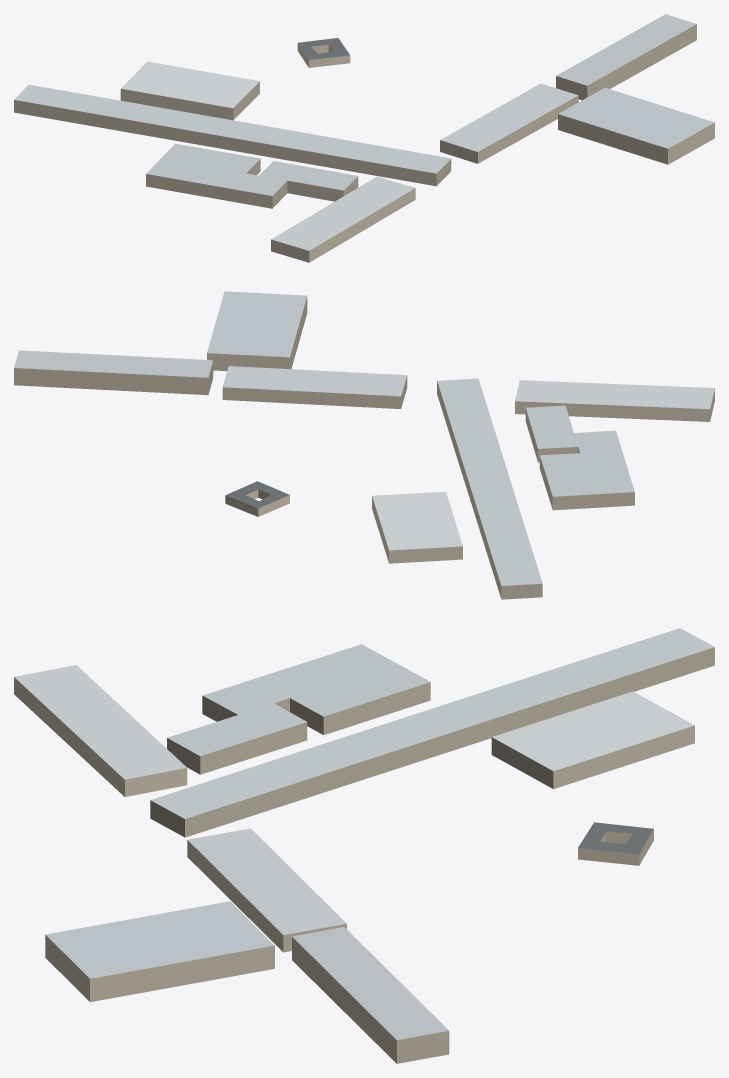
3 views of the same model, one above another, from view 1: azimuth 30°, elevation 25°; view 2: azimuth 150°, elevation 25°; view 3: azimuth 270°, elevation 25° (orthographic). The views are drawn at different scales.
Parts seen in each view (by area): view 1: tuile; view 2: tuile; view 3: tuile.
Part boxes in pixels (x1=…): tuile: x1=14, y1=14, x2=714, y2=262; tuile: x1=14, y1=291, x2=714, y2=599; tuile: x1=14, y1=628, x2=714, y2=1063.
Bounding box in the file's own units: 268 × 7.22 × 190.
